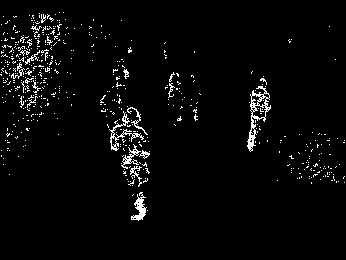person: (109, 110, 159, 225), (245, 74, 277, 156)
